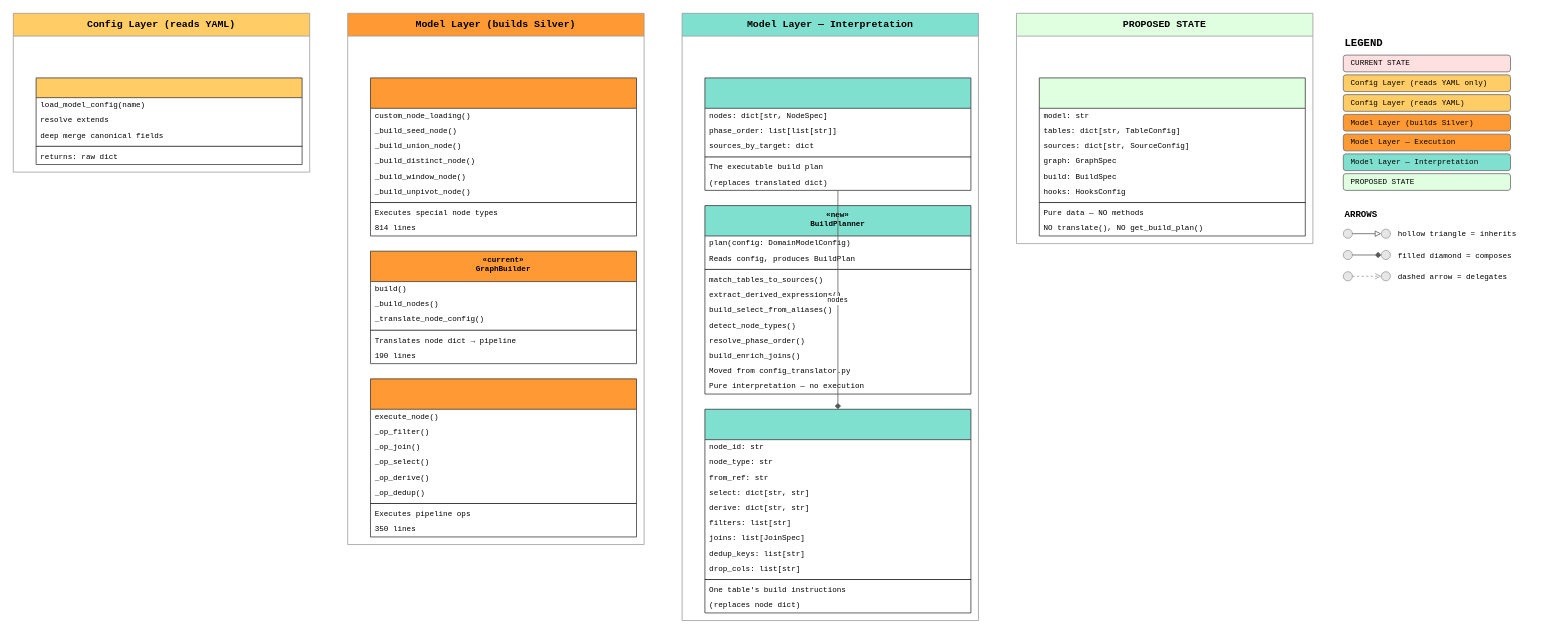
Image size: 1562x634. Some labels were removed from this diagram. Here are the shapes that lost their labels. From the top down, the box of each, then its label:
(35, 77, 302, 165): DomainConfigLoader
(704, 77, 971, 190): «new» BuildPlan
(370, 77, 636, 236): «current» DomainModel
(1039, 77, 1305, 236): «dataclass» DomainModelConfig
(370, 378, 636, 537): «current» NodeExecutor
(704, 408, 971, 613): «new» NodeSpec
